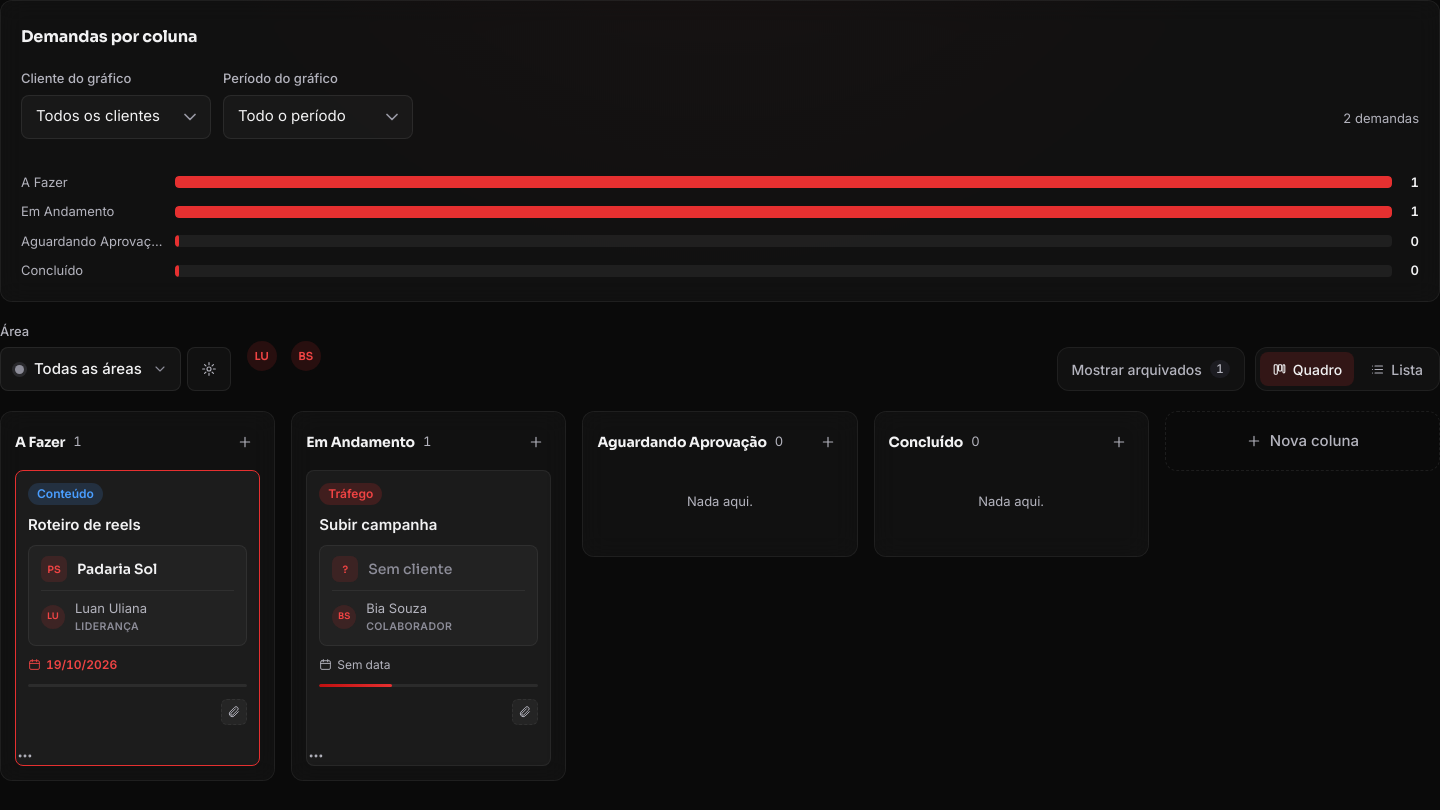
Scenario: DemandasPage › a demanda pode ter vários responsáveis: todos gravados, avisados e no card
The width and height of the screenshot is (1440, 810).
Check: the text "Roteiro de reels" is shown, box [28, 515, 141, 534]
Click the button named "Adicionar em A Fazer" at (245, 442), box [230, 427, 260, 457]
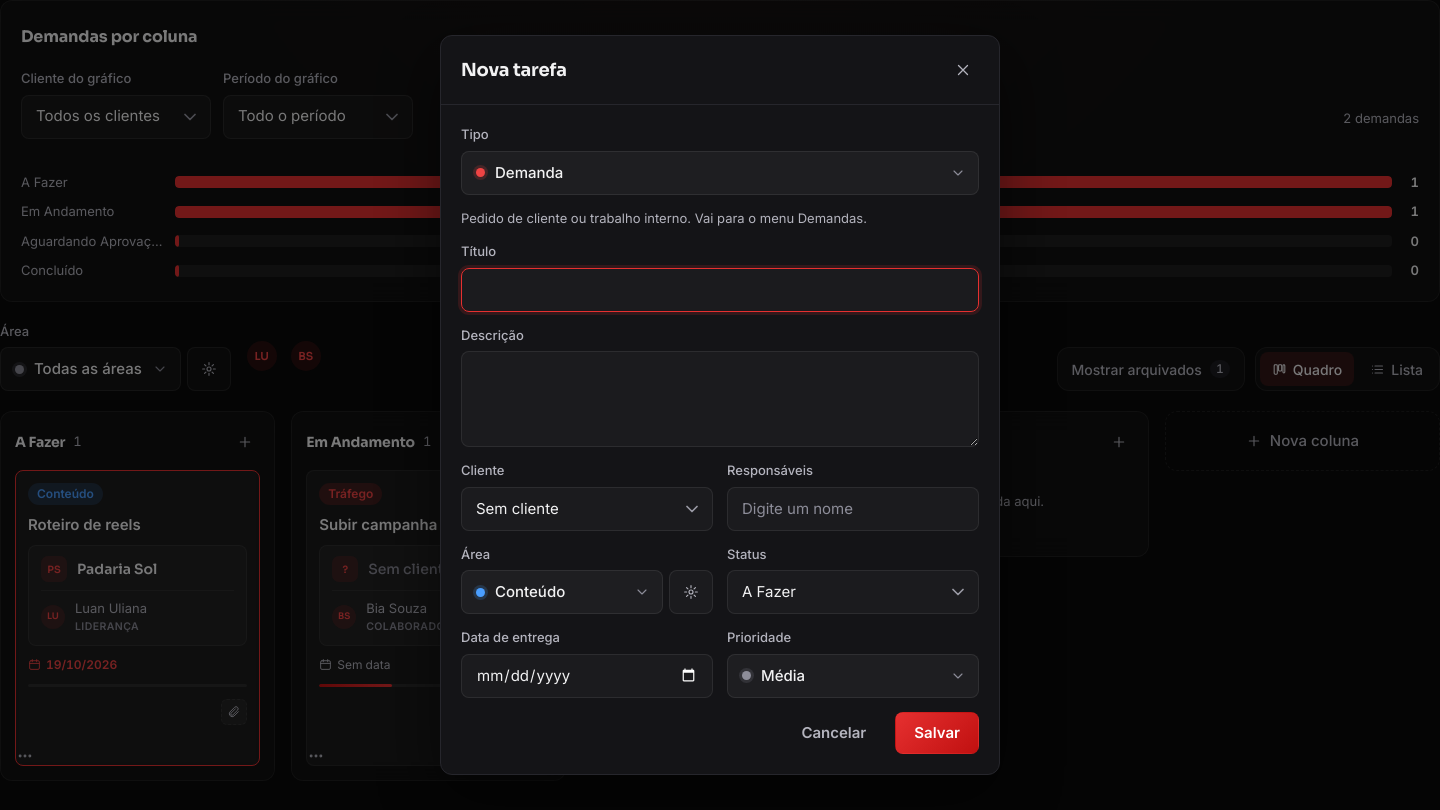
Type "Campanha de Natal" into the field labelled "Título" at (720, 290), box [461, 268, 979, 312]
Type "Bia Souza" into the dropdown labelled "Responsáveis" at (853, 509), box [727, 487, 979, 531]
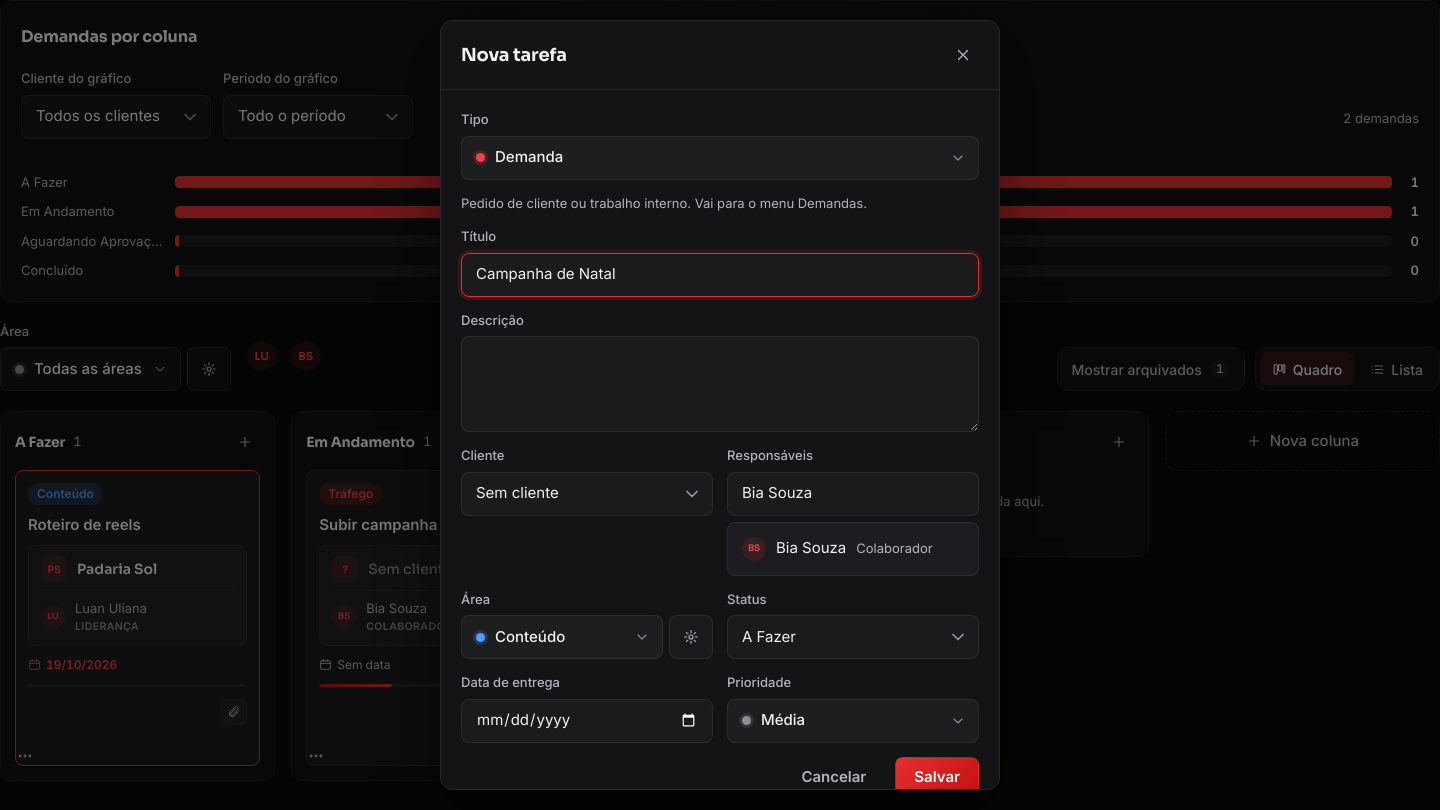
Click the option "BS Bia Souza Colaborador" at (837, 548), box [742, 536, 933, 560]
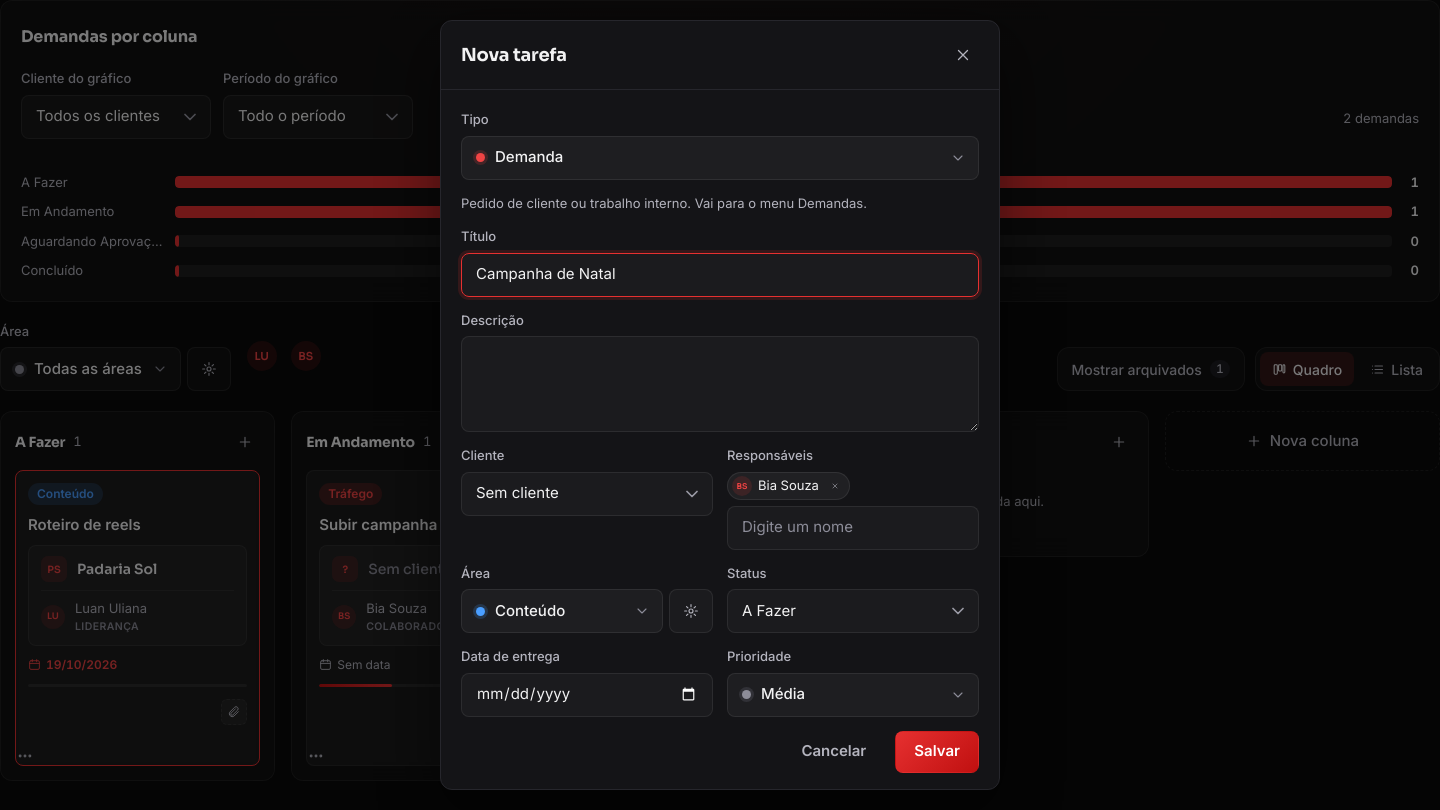
Type "Luan Uliana" into the dropdown labelled "Responsáveis" at (853, 528), box [727, 506, 979, 550]
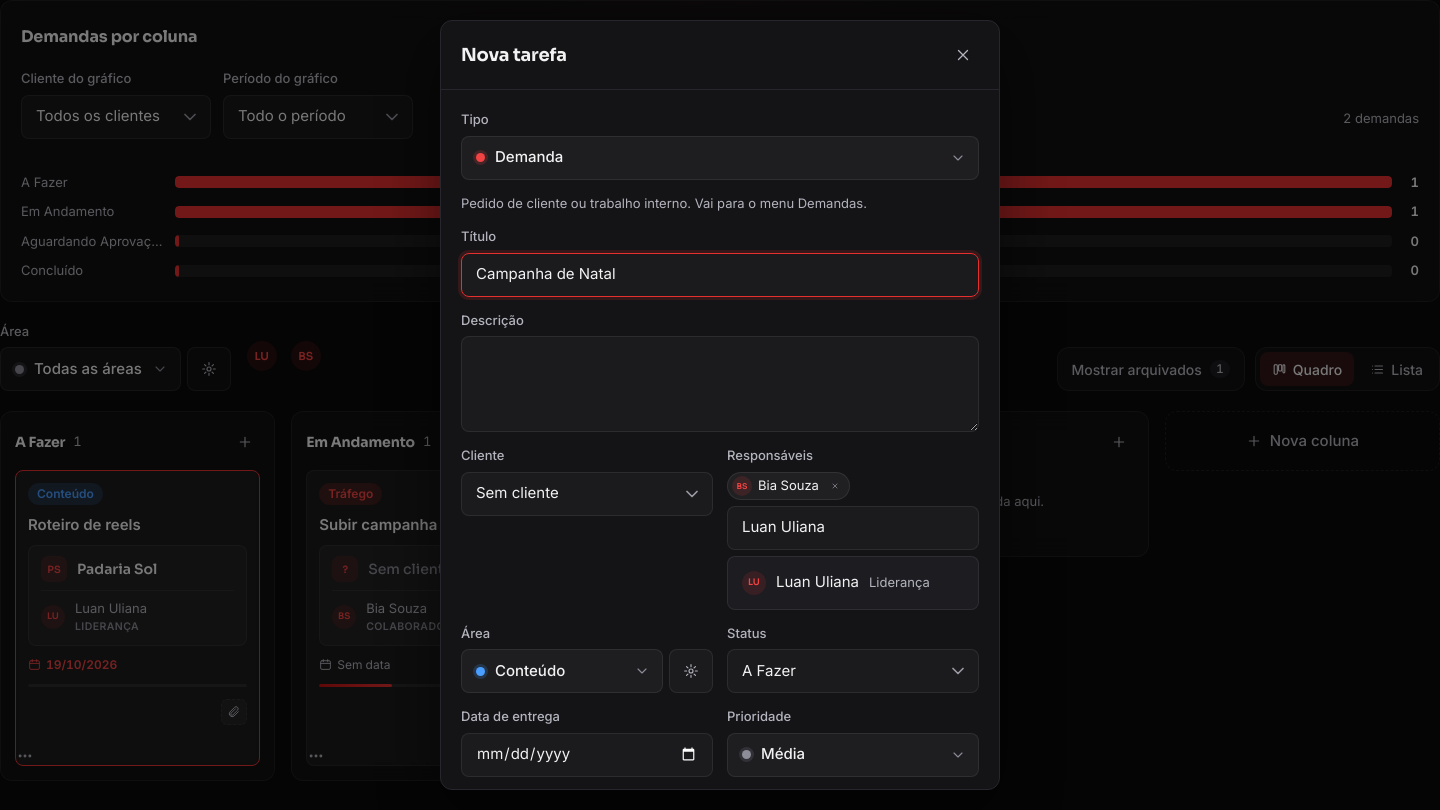
Click the option "LU Luan Uliana Liderança" at (836, 582), box [742, 570, 930, 594]
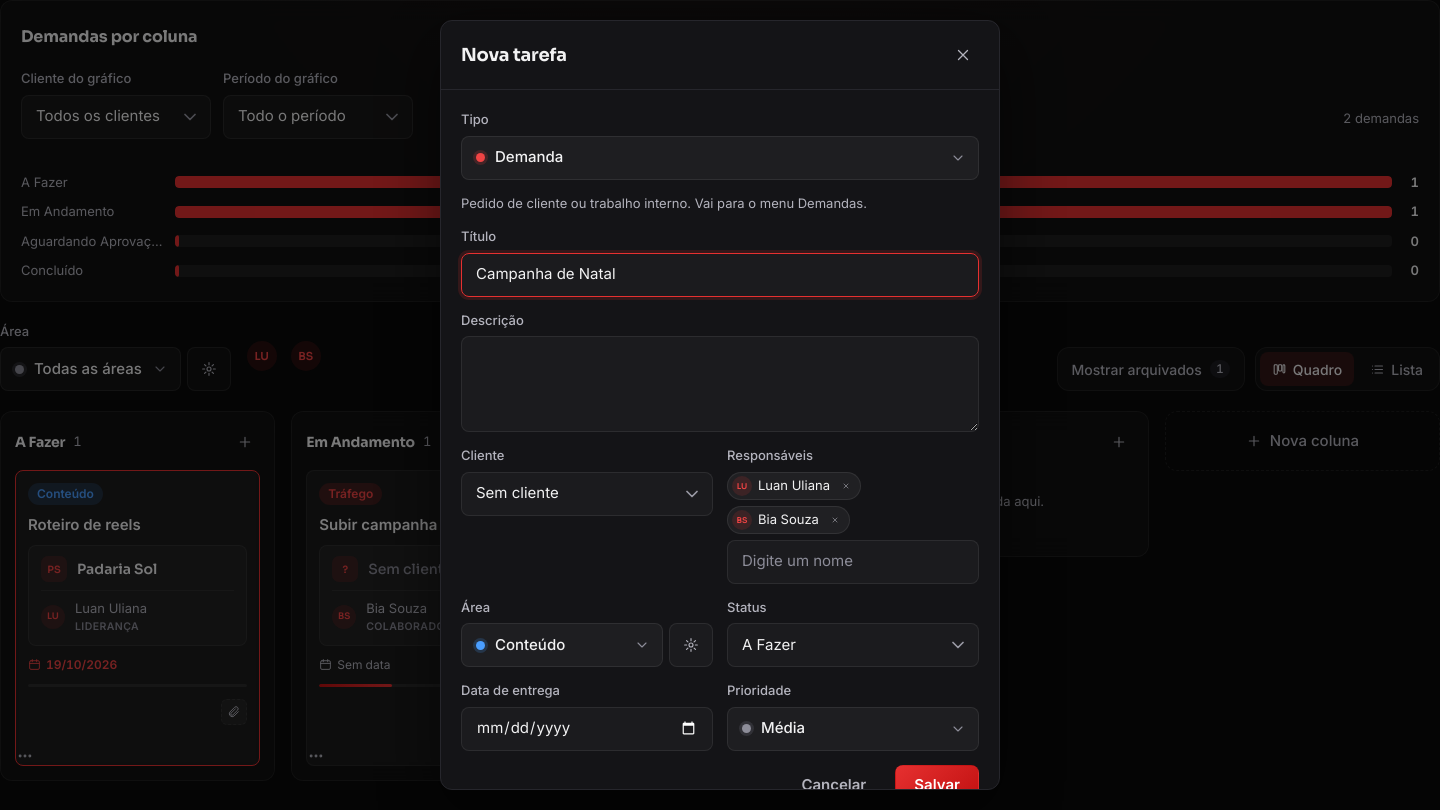
Click the button "Salvar" at (937, 786), box [895, 764, 979, 806]
(page scrolled)
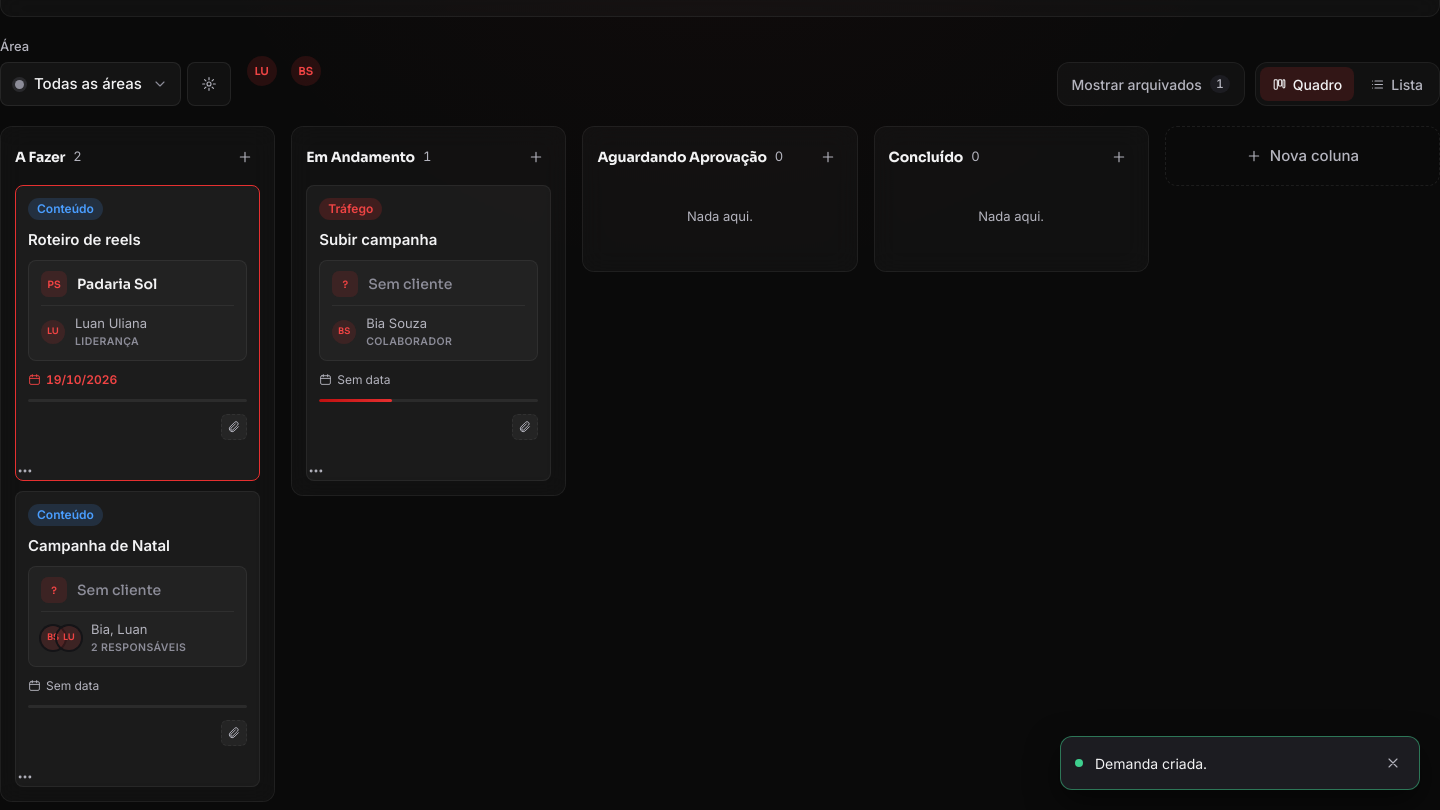
Check: the text "Demanda criada." is shown, box [1095, 754, 1207, 772]
Check: the text "Bia, Luan" is shown, box [91, 621, 147, 637]
Check: the text "2 responsáveis" is shown, box [91, 640, 186, 656]
